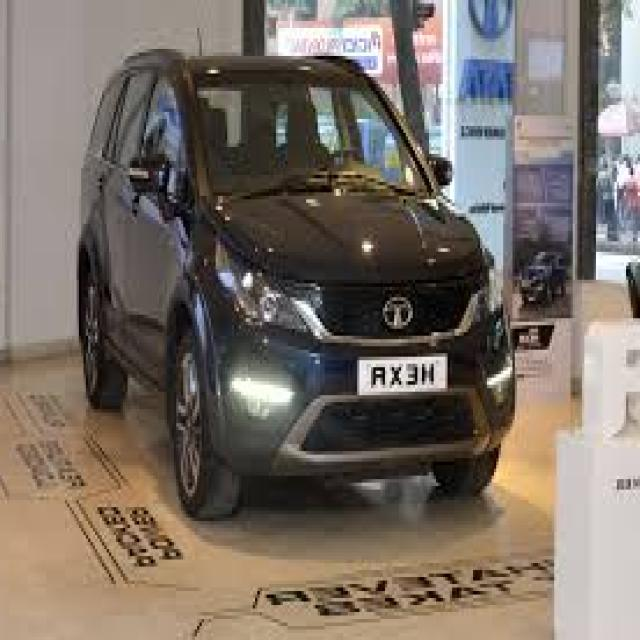car: (72, 42, 527, 541)
